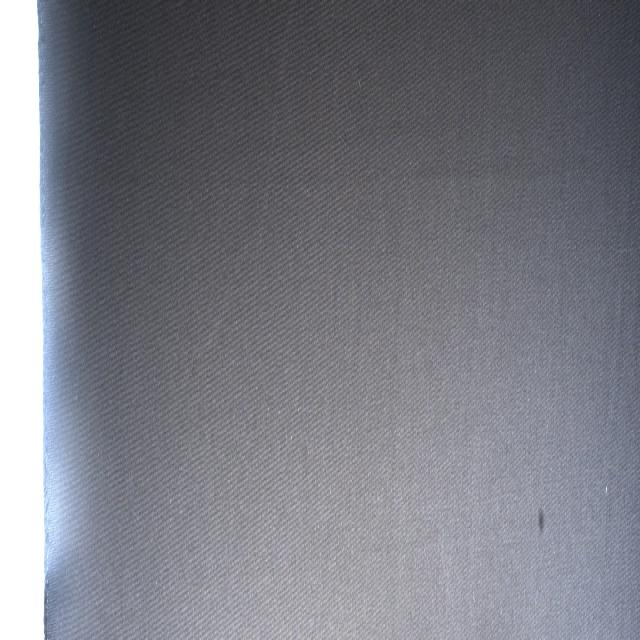crease: (205, 18, 295, 365), (601, 153, 632, 573), (409, 164, 551, 189), (274, 170, 344, 198)
